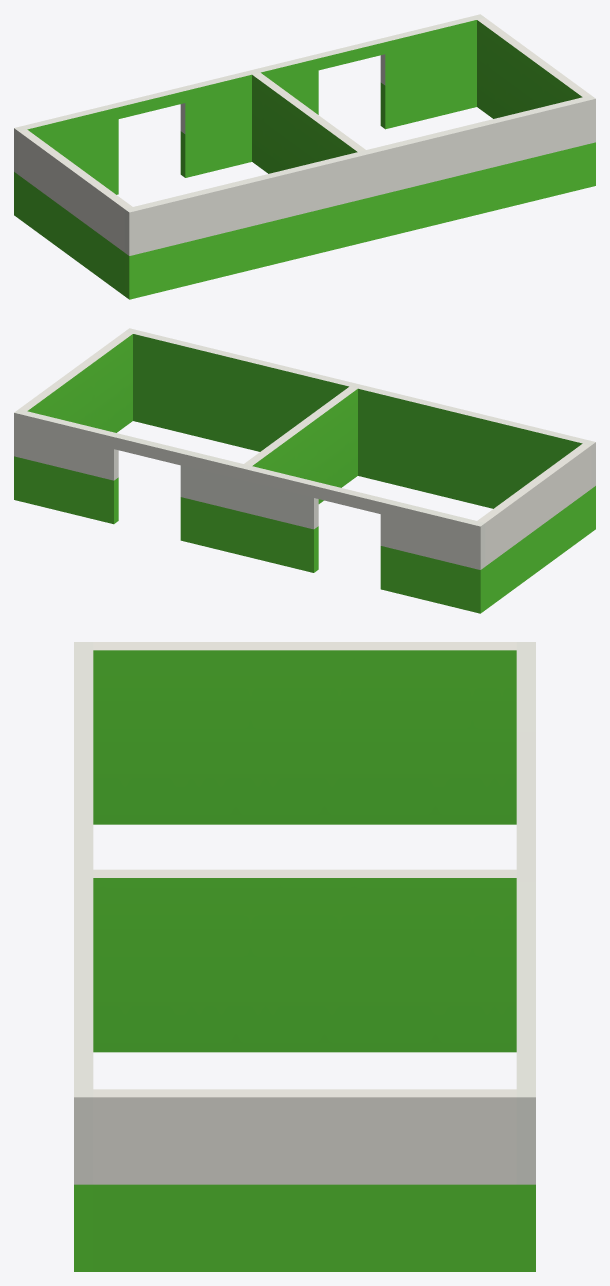
The model's file is Room.fbx.
The picture shows the model from 3 angles, top to bottom: view 1: azimuth 30°, elevation 25°; view 2: azimuth 150°, elevation 25°; view 3: azimuth 270°, elevation 25°; orthographic projection. The views are drawn at different scales.
Parts seen in each view (by area): view 1: room.002; view 2: room.002; view 3: room.002.
Boxes of the visible parts, left/top/right/bottom form: room.002: left=14, top=14, right=595, bottom=299; room.002: left=14, top=328, right=595, bottom=613; room.002: left=74, top=642, right=535, bottom=1271.
Size of the model in its own units: 1400 by 250 by 600.
